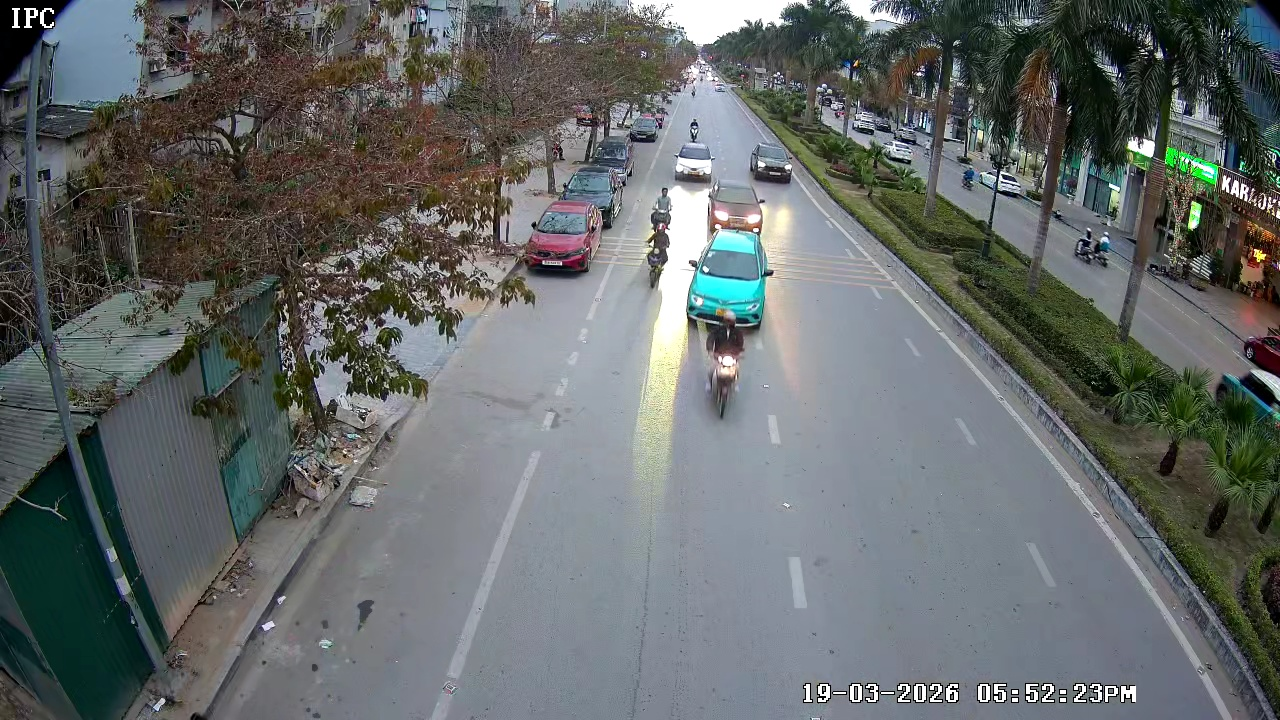car: (684, 229, 776, 332), (524, 199, 601, 276), (704, 180, 766, 240), (748, 142, 795, 185), (672, 141, 717, 183), (629, 114, 660, 144)
motorbike: (694, 298, 749, 420), (643, 217, 675, 291), (651, 183, 677, 232), (688, 118, 703, 142)
